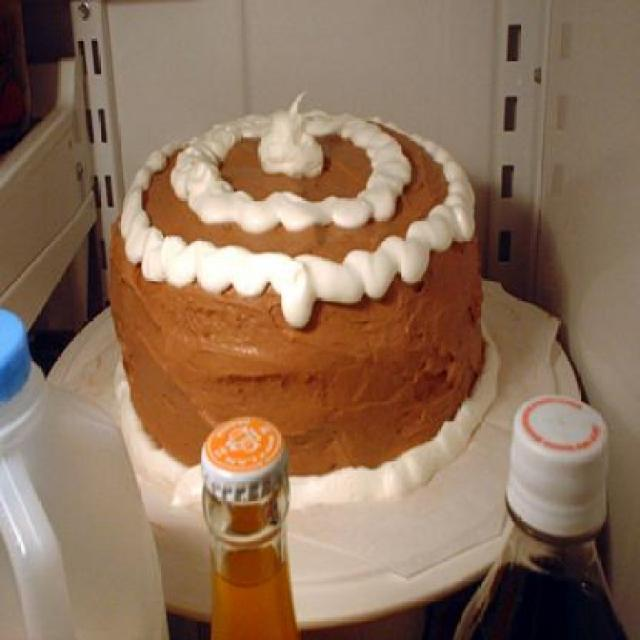Cake: (111, 90, 502, 504)
